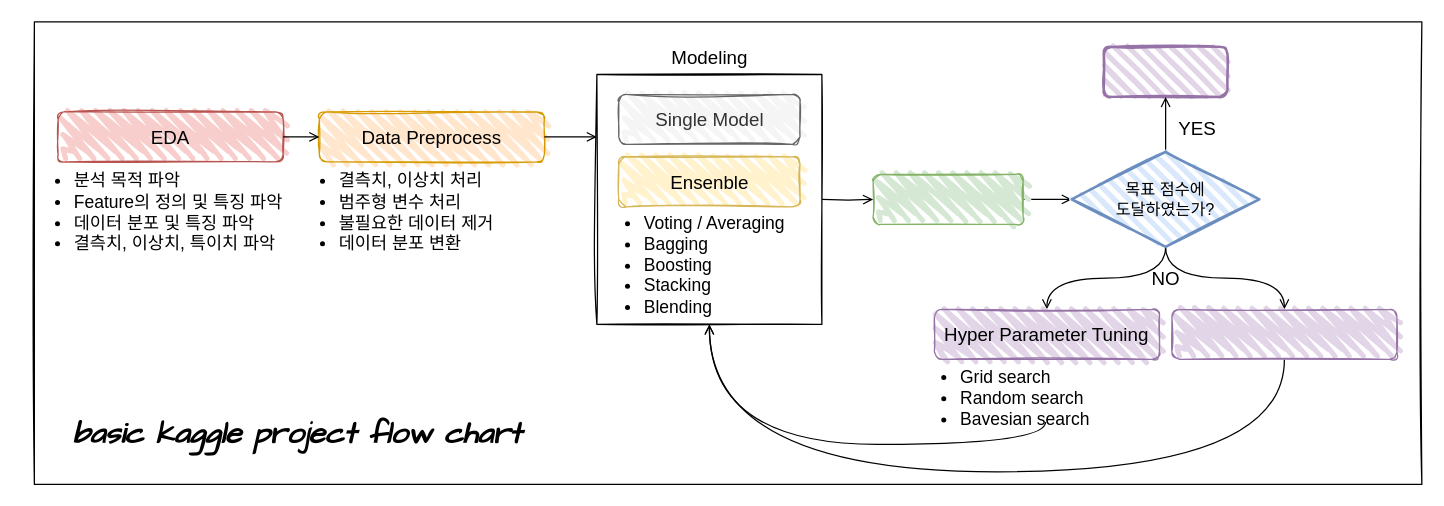
This 1444x506 diagram has some shape labels left out. The box of each missing label's shape, as (x1, y1, x2, y2) in pixels:
Feature Engineering: (1171, 308, 1397, 359)
Submit: (872, 173, 1023, 224)
종료: (1102, 45, 1228, 98)
